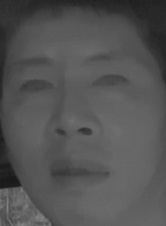eye: (89, 70, 133, 96), (14, 74, 55, 101)
mouth: (50, 154, 110, 194)
